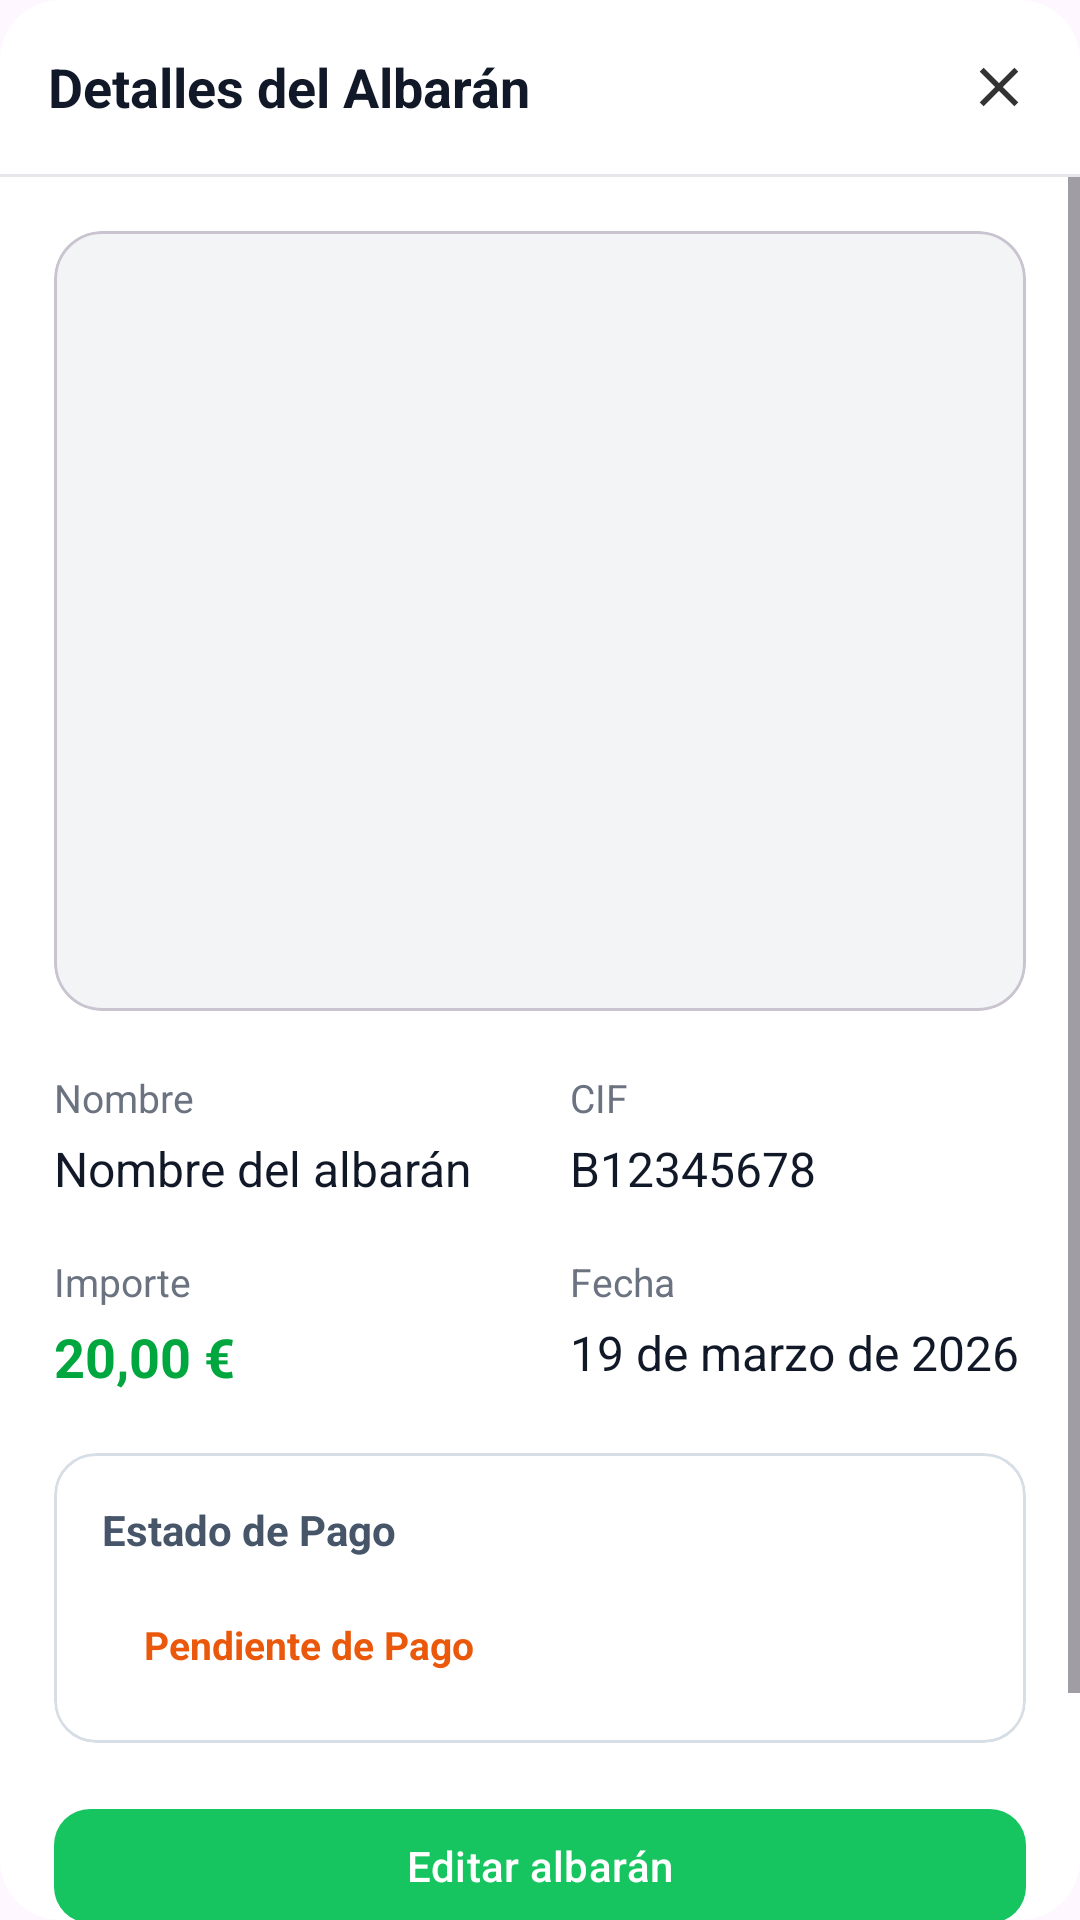

Icons on this 1080w x 1920h Android screen, each with the point to tap as (x=x, y=y):
Cerrar diálogo: (x=999, y=87)
